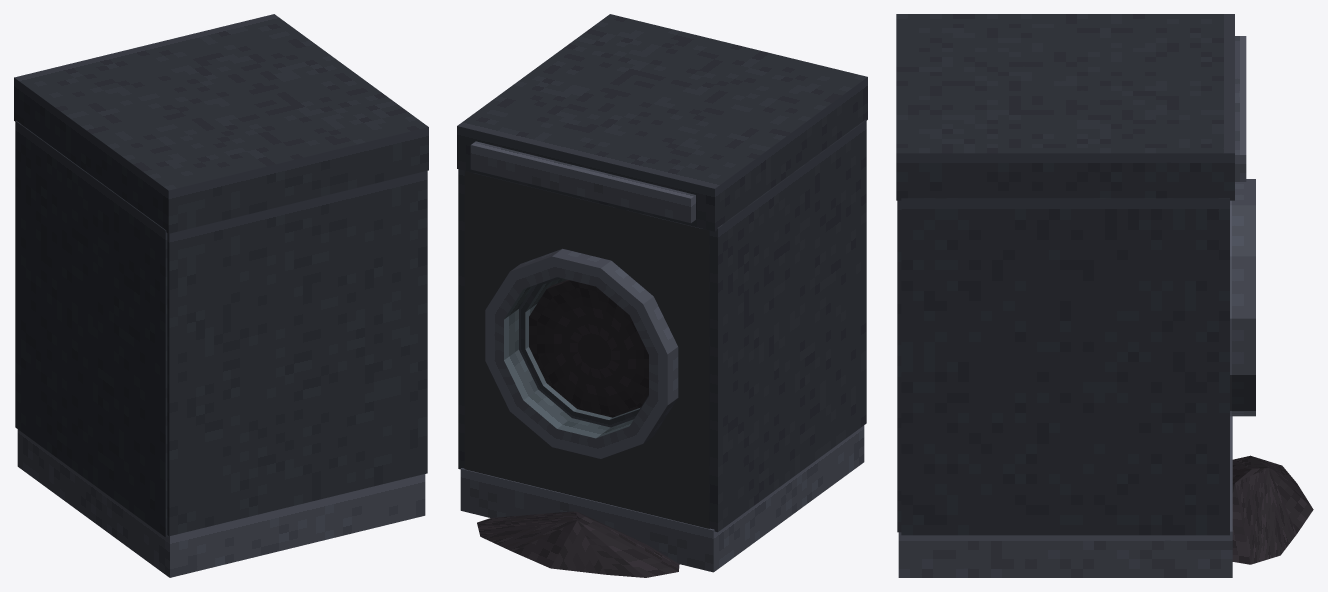
The model's file is f_vitrified_washer.glb.
3 renders of one model, left to right at view 1: azimuth 30°, elevation 25°; view 2: azimuth 150°, elevation 25°; view 3: azimuth 270°, elevation 25°, orthographic. The views are drawn at different scales.
Visible parts, largest first — view 1: block_dark-appliance-back, block_dark-appliance-worktop, block_dark-appliance-side, block_appliance-base; view 2: block_dark-appliance-side (×2), block_dark-appliance-worktop, block_solid-glass-door-fascia, block_appliance-base, block_drum-filled-with-black-sand, block_spilled-black-sand, block_dead-control-panel, block_recessed-drum-rim-near-rim-2, block_recessed-drum-rim-near-rim-8, block_recessed-drum-rim-near-rim-4, block_recessed-drum-rim-near-rim-10, block_recessed-drum-rim-near-rim-1 (+15 smaller); view 3: block_dark-appliance-side, block_dark-appliance-worktop, block_appliance-base, block_spilled-black-sand, block_dead-control-panel, block_dark-appliance-back, block_recessed-drum-rim-outer-0, block_recessed-drum-rim-outer-11, block_recessed-drum-rim-outer-1, block_recessed-drum-rim-outer-10, block_recessed-drum-rim-outer-2.
Boxes of the visible parts, x1,y1,x2,y2 form: block_dark-appliance-back: [167, 171, 427, 536]; block_dark-appliance-worktop: [14, 14, 428, 233]; block_dark-appliance-side: [15, 120, 168, 537]; block_appliance-base: [17, 429, 425, 577]; block_dark-appliance-side (×2): [458, 119, 866, 532]; block_dark-appliance-worktop: [457, 14, 867, 231]; block_solid-glass-door-fascia: [464, 171, 709, 528]; block_appliance-base: [460, 425, 864, 572]; block_drum-filled-with-black-sand: [529, 280, 648, 417]; block_spilled-black-sand: [477, 511, 679, 577]; block_dead-control-panel: [470, 141, 695, 223]; block_recessed-drum-rim-near-rim-2: [552, 256, 600, 286]; block_recessed-drum-rim-near-rim-8: [552, 429, 600, 458]; block_recessed-drum-rim-near-rim-4: [629, 304, 666, 354]; block_recessed-drum-rim-near-rim-10: [485, 360, 523, 410]; block_recessed-drum-rim-near-rim-1: [510, 256, 556, 288]; block_dark-appliance-side: [901, 198, 1229, 535]; block_dark-appliance-worktop: [896, 14, 1234, 200]; block_appliance-base: [898, 416, 1232, 577]; block_spilled-black-sand: [1232, 455, 1313, 564]; block_dead-control-panel: [1235, 36, 1246, 181]; block_dark-appliance-back: [897, 200, 901, 532]; block_recessed-drum-rim-outer-0: [1230, 256, 1255, 318]; block_recessed-drum-rim-outer-11: [1230, 318, 1255, 374]; block_recessed-drum-rim-outer-1: [1230, 205, 1255, 256]; block_recessed-drum-rim-outer-10: [1230, 375, 1255, 410]; block_recessed-drum-rim-outer-2: [1230, 179, 1255, 205].
Bounding box in the file's own units: 0.608 × 0.862 × 0.7652.
2 materials, 2 textured.
